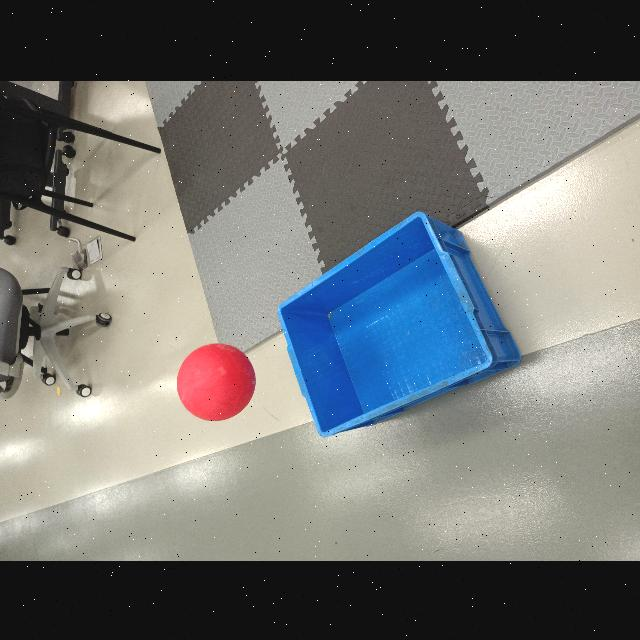R: (176, 340, 254, 422)
